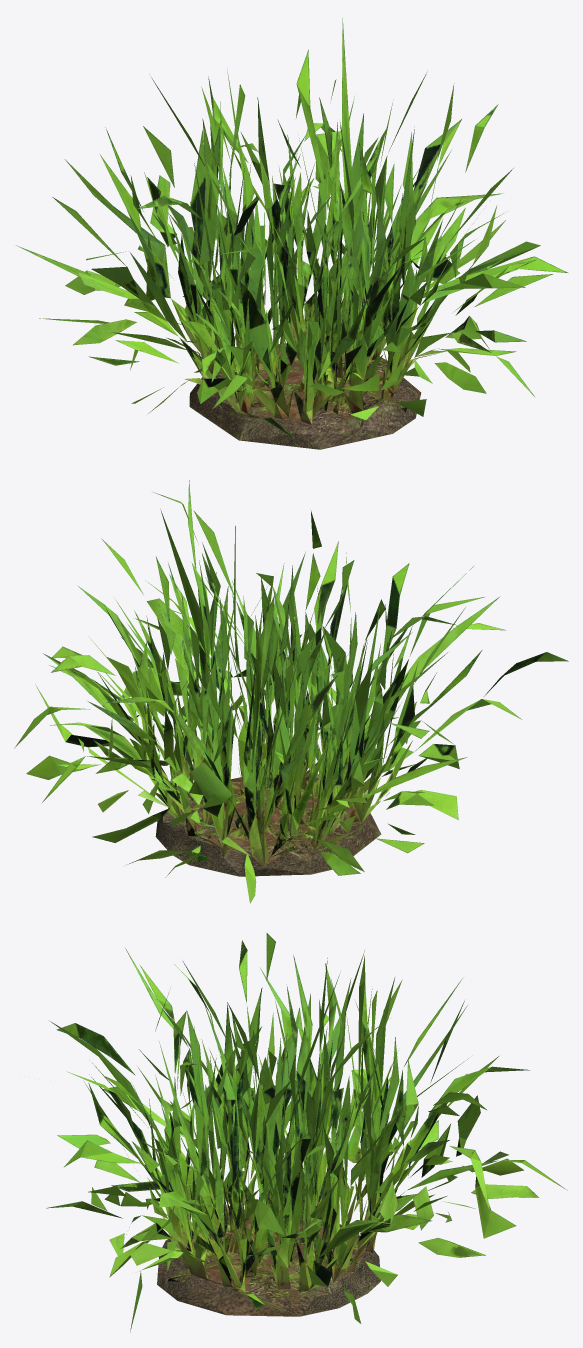
The model's file is grass_green.glb.
3 views of the same model, one above another, from view 1: azimuth 30°, elevation 25°; view 2: azimuth 150°, elevation 25°; view 3: azimuth 270°, elevation 25° (orthographic). The views are drawn at different scales.
Bounding box in the file's own units: 1.62 × 1.25 × 1.87.
1 material, 1 textured.
